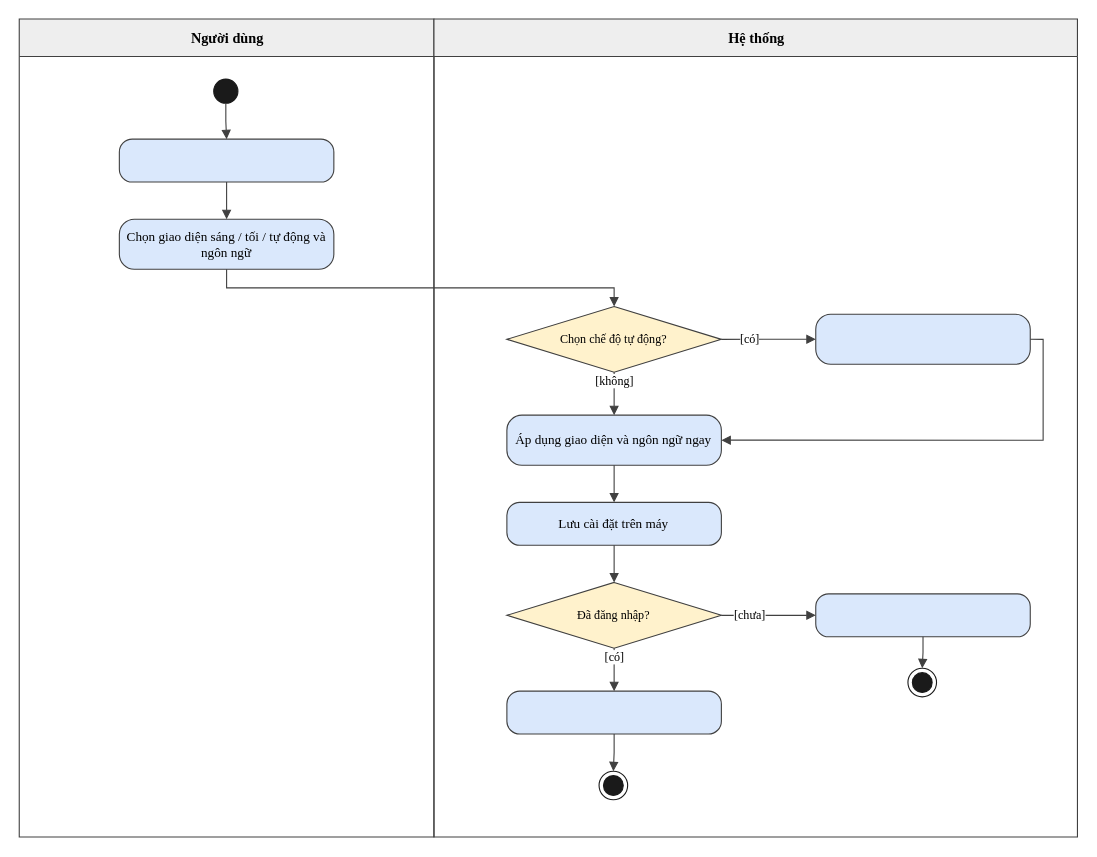
Some shapes in this 1097 by 857 pixel diagram are drawn without their labels. Each missing label, with the centre of its shape:
"Chỉ lưu trên máy" belongs at point 922,615.
"Lưu giờ bắt đầu và kết thúc chế độ tối" belongs at point 922,338.
"Mở hộp thoại Cài đặt" belongs at point 226,160.
"Sau 600 ms đồng bộ lên tài khoản" belongs at point 613,712.
